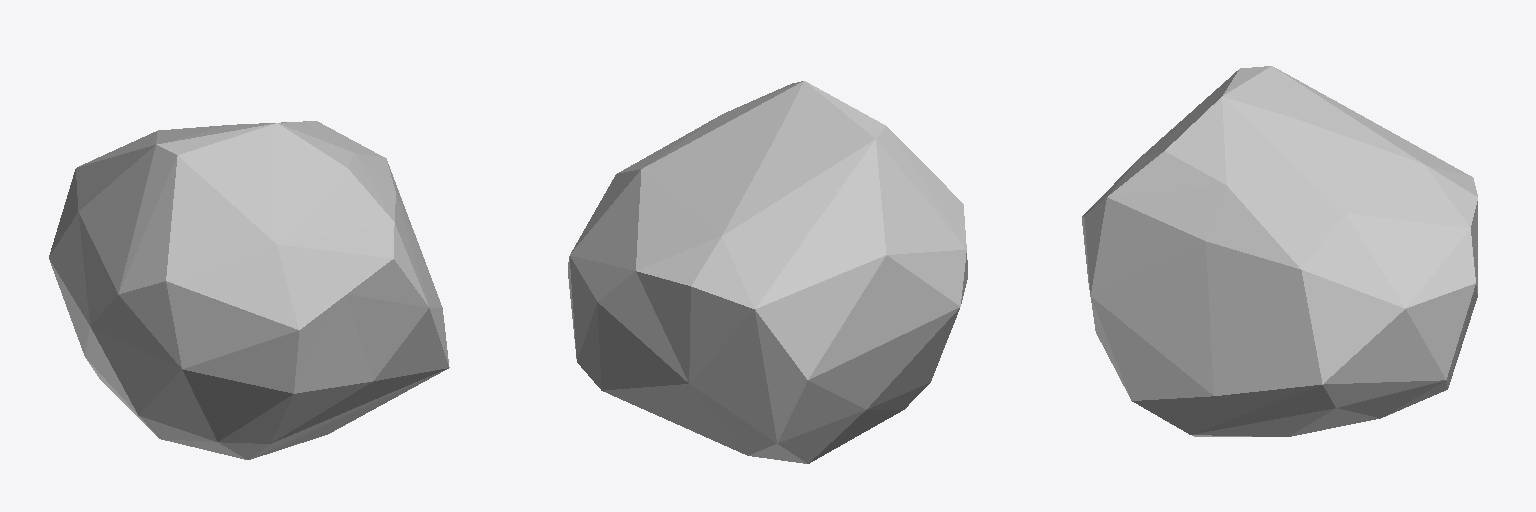
File: rock.obj
3 renders of one model, left to right at view 1: azimuth 30°, elevation 25°; view 2: azimuth 150°, elevation 25°; view 3: azimuth 270°, elevation 25°, orthographic.
Parts seen in each view (by area): view 1: Rock__MI_Rock_01; view 2: Rock__MI_Rock_01; view 3: Rock__MI_Rock_01.
Boxes of the visible parts, <box> form: Rock__MI_Rock_01: <box>49,121,449,459</box>; Rock__MI_Rock_01: <box>568,81,967,463</box>; Rock__MI_Rock_01: <box>1082,66,1477,436</box>.
Bounding box in the file's own units: 0.0369 × 0.0307 × 0.0354.